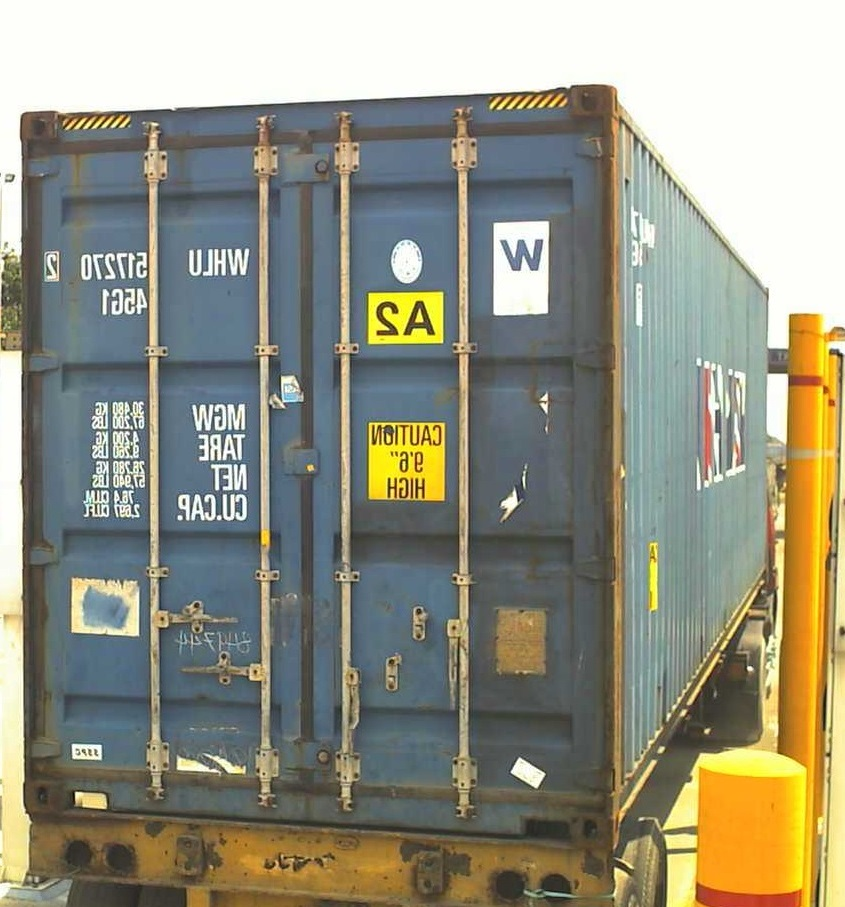container_door: (27, 80, 608, 840)
